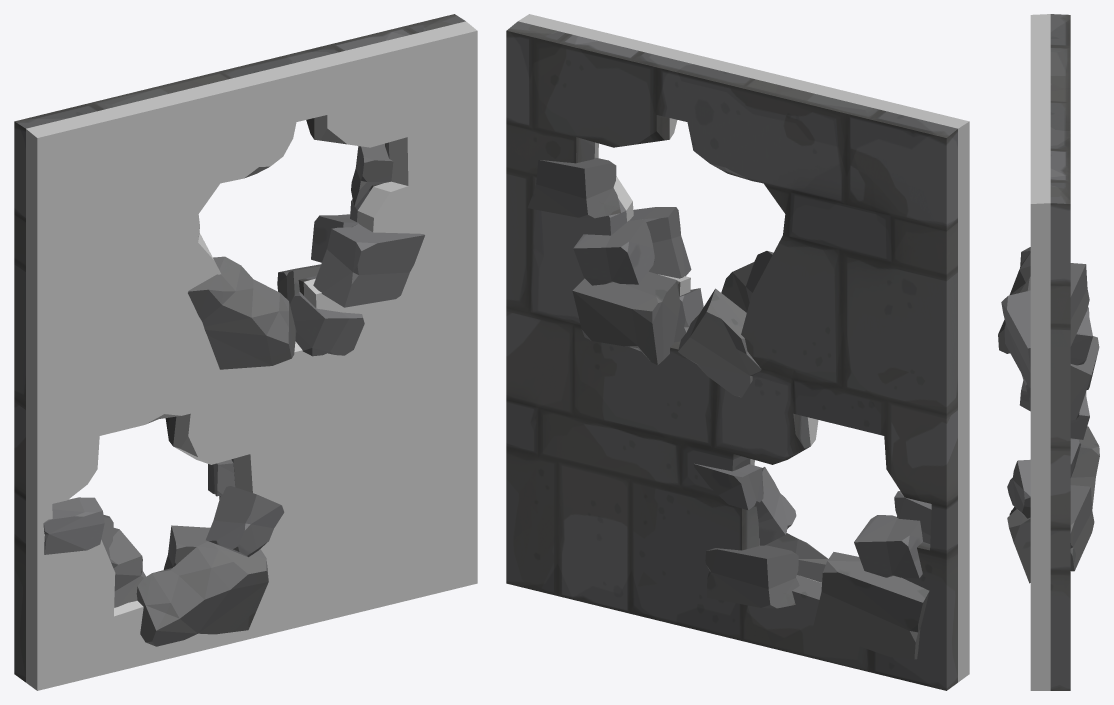
The model's file is SM_Bld_Wall_L_Damaged_04.fbx.
3 renders of one model, left to right at view 1: azimuth 30°, elevation 25°; view 2: azimuth 150°, elevation 25°; view 3: azimuth 270°, elevation 25°, orthographic. The views are drawn at different scales.
Parts seen in each view (by area): view 1: SM_Bld_Wall_L_Damaged_04; view 2: SM_Bld_Wall_L_Damaged_04; view 3: SM_Bld_Wall_L_Damaged_04.
Part boxes in pixels (bbox=[...]): SM_Bld_Wall_L_Damaged_04: bbox=[14, 14, 477, 690]; SM_Bld_Wall_L_Damaged_04: bbox=[506, 14, 969, 690]; SM_Bld_Wall_L_Damaged_04: bbox=[998, 14, 1099, 690].
Size of the model in its own units: 500 by 601 by 114.
